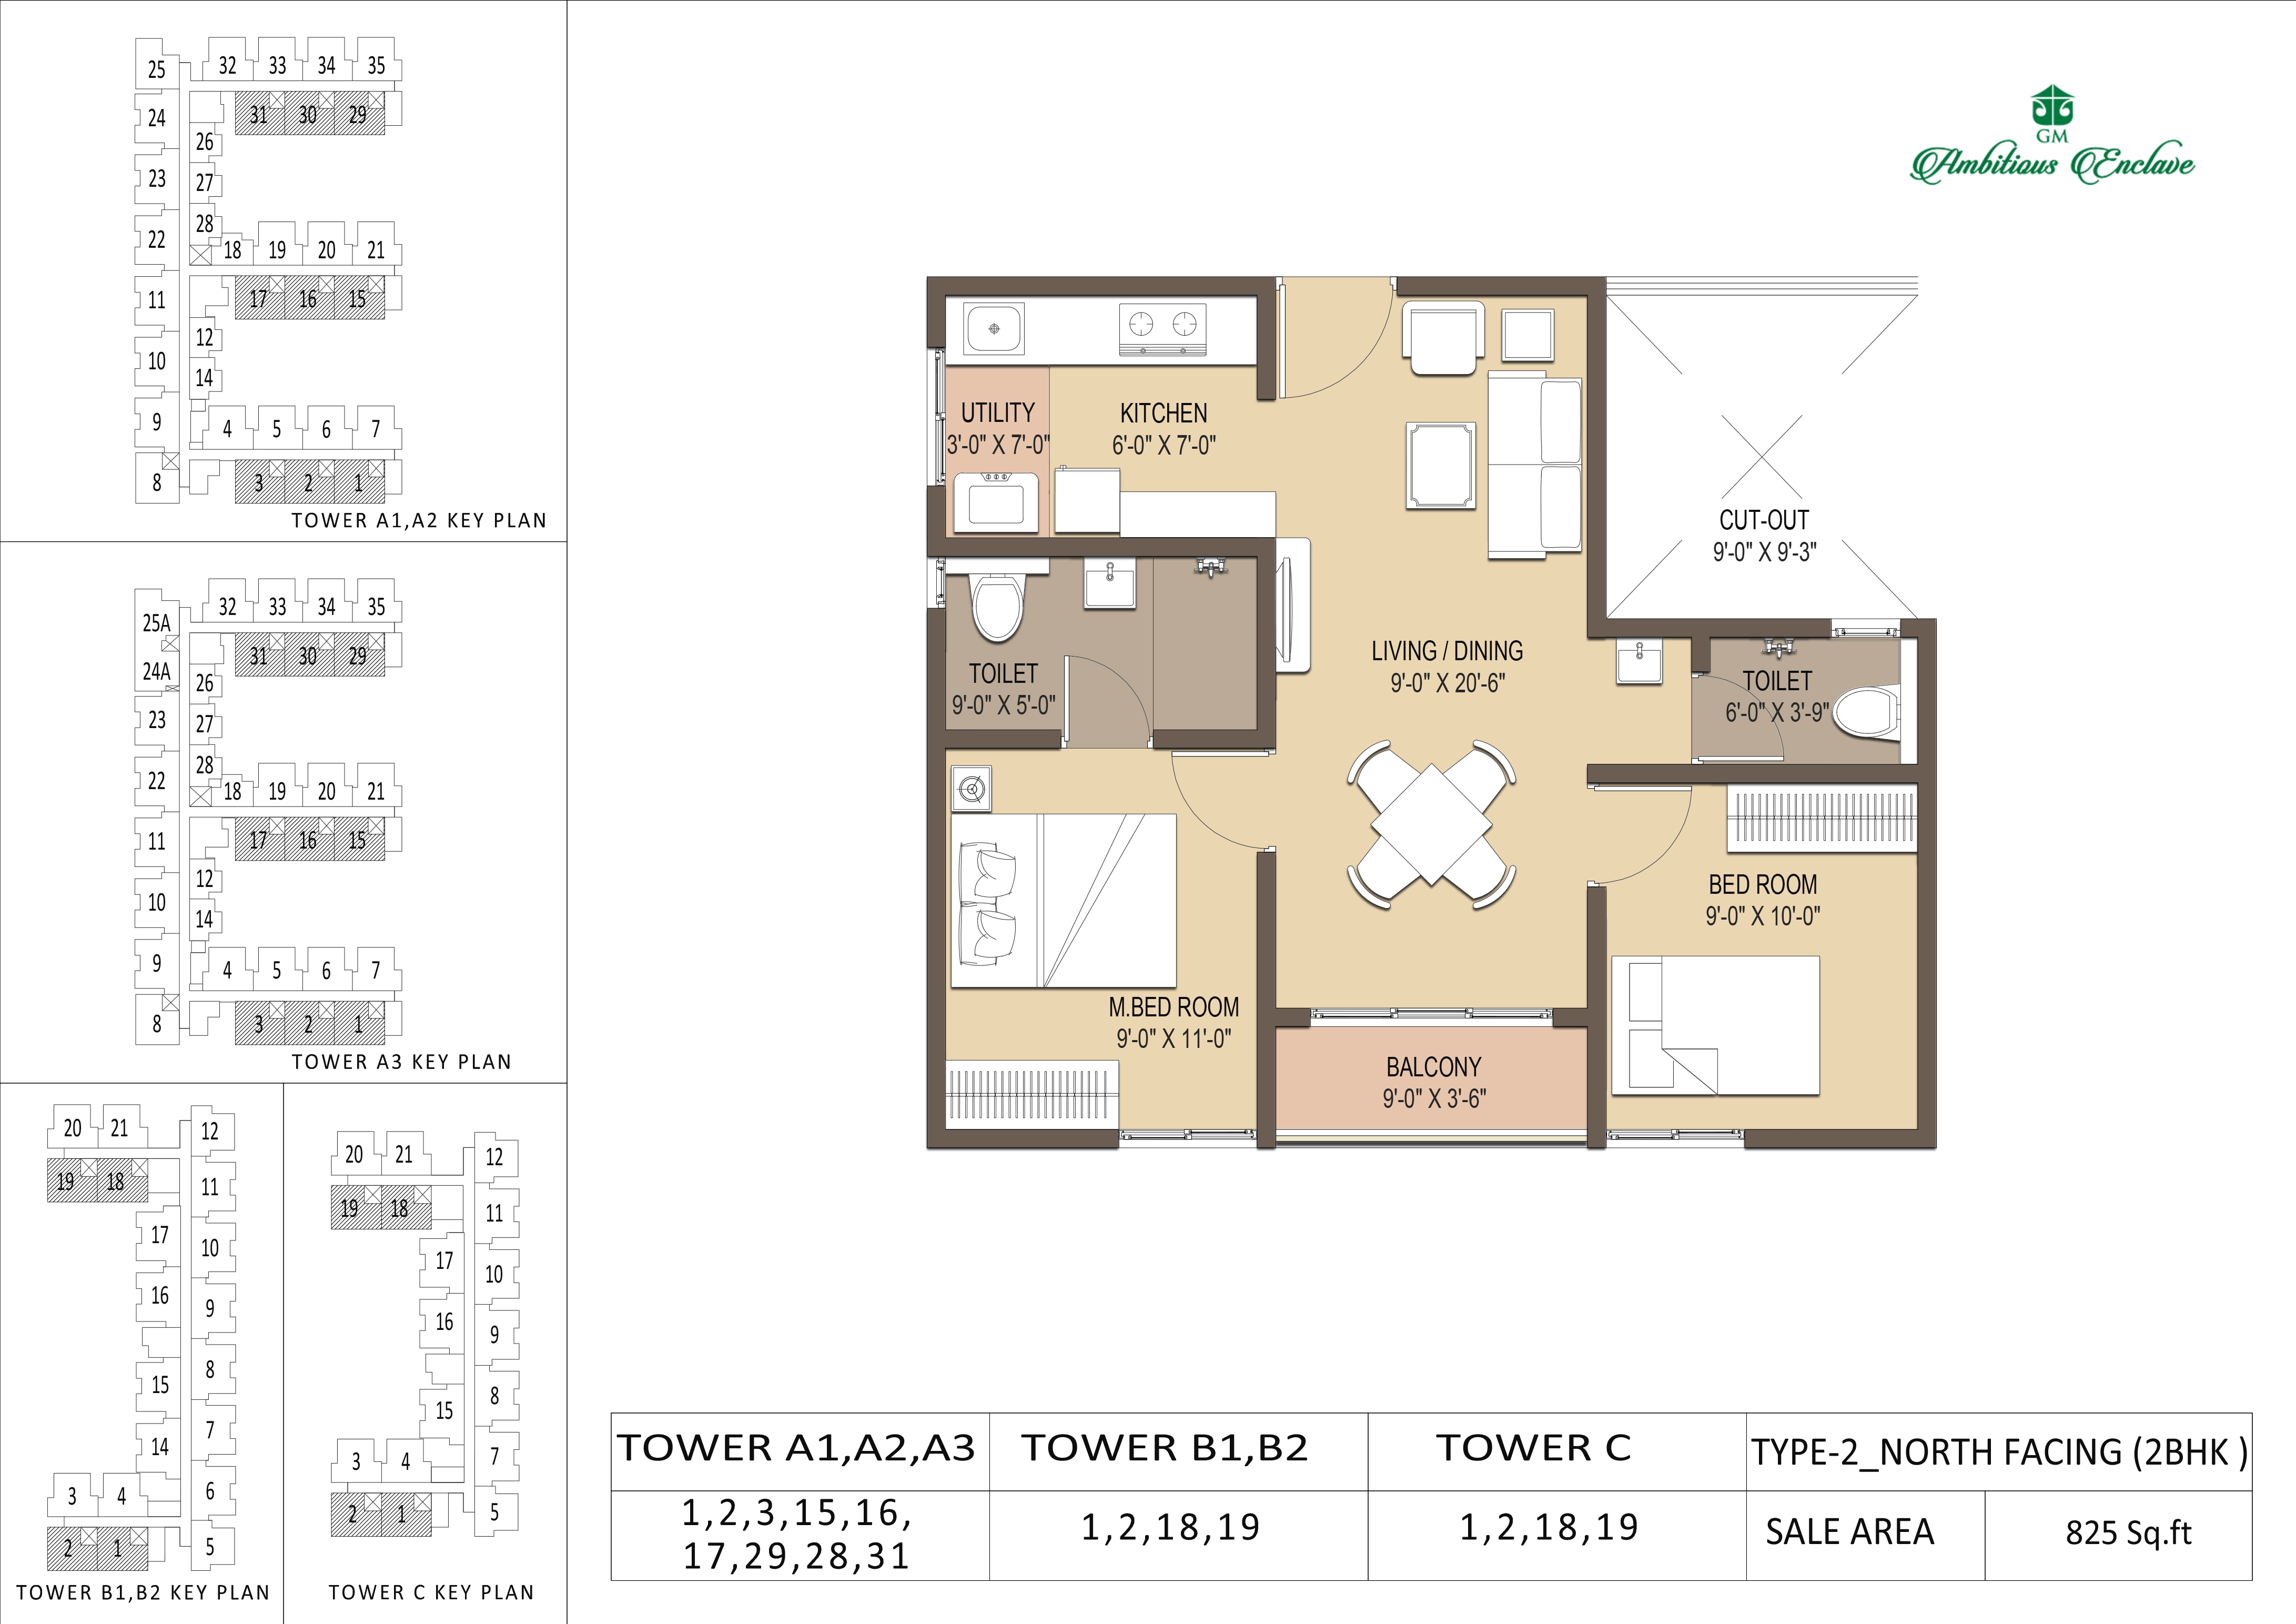window: (1305, 1007, 1556, 1030), (1604, 1127, 1746, 1149), (924, 346, 947, 489), (1117, 1127, 1258, 1149), (1829, 617, 1903, 640), (924, 554, 947, 612)
